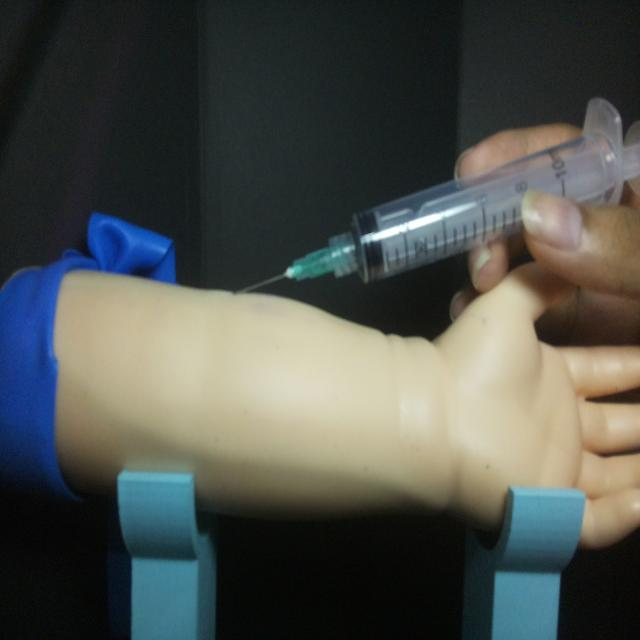20deg: (231, 93, 637, 299)
